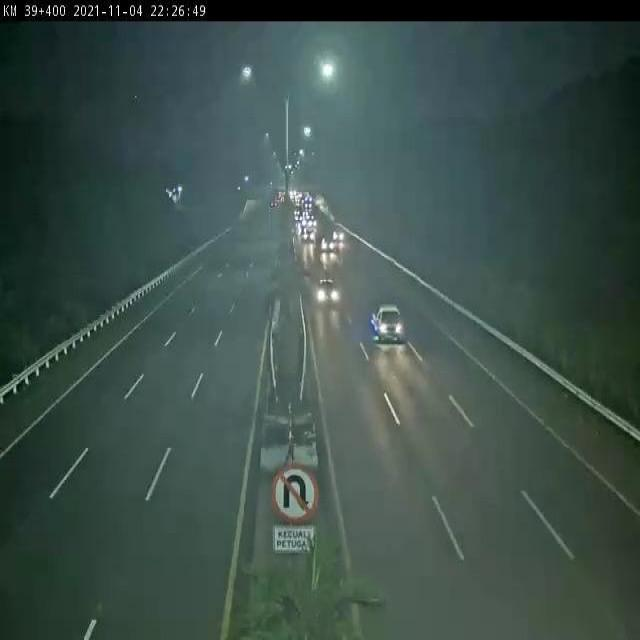car: (307, 270, 344, 314)
truck-m-: (363, 287, 421, 352)
